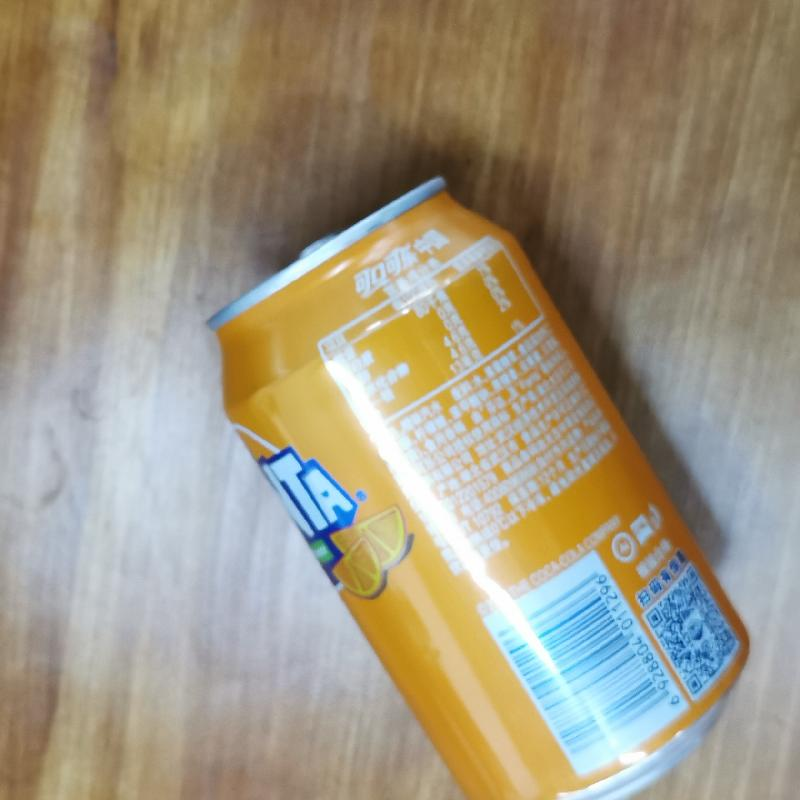cans: (201, 173, 754, 800)
